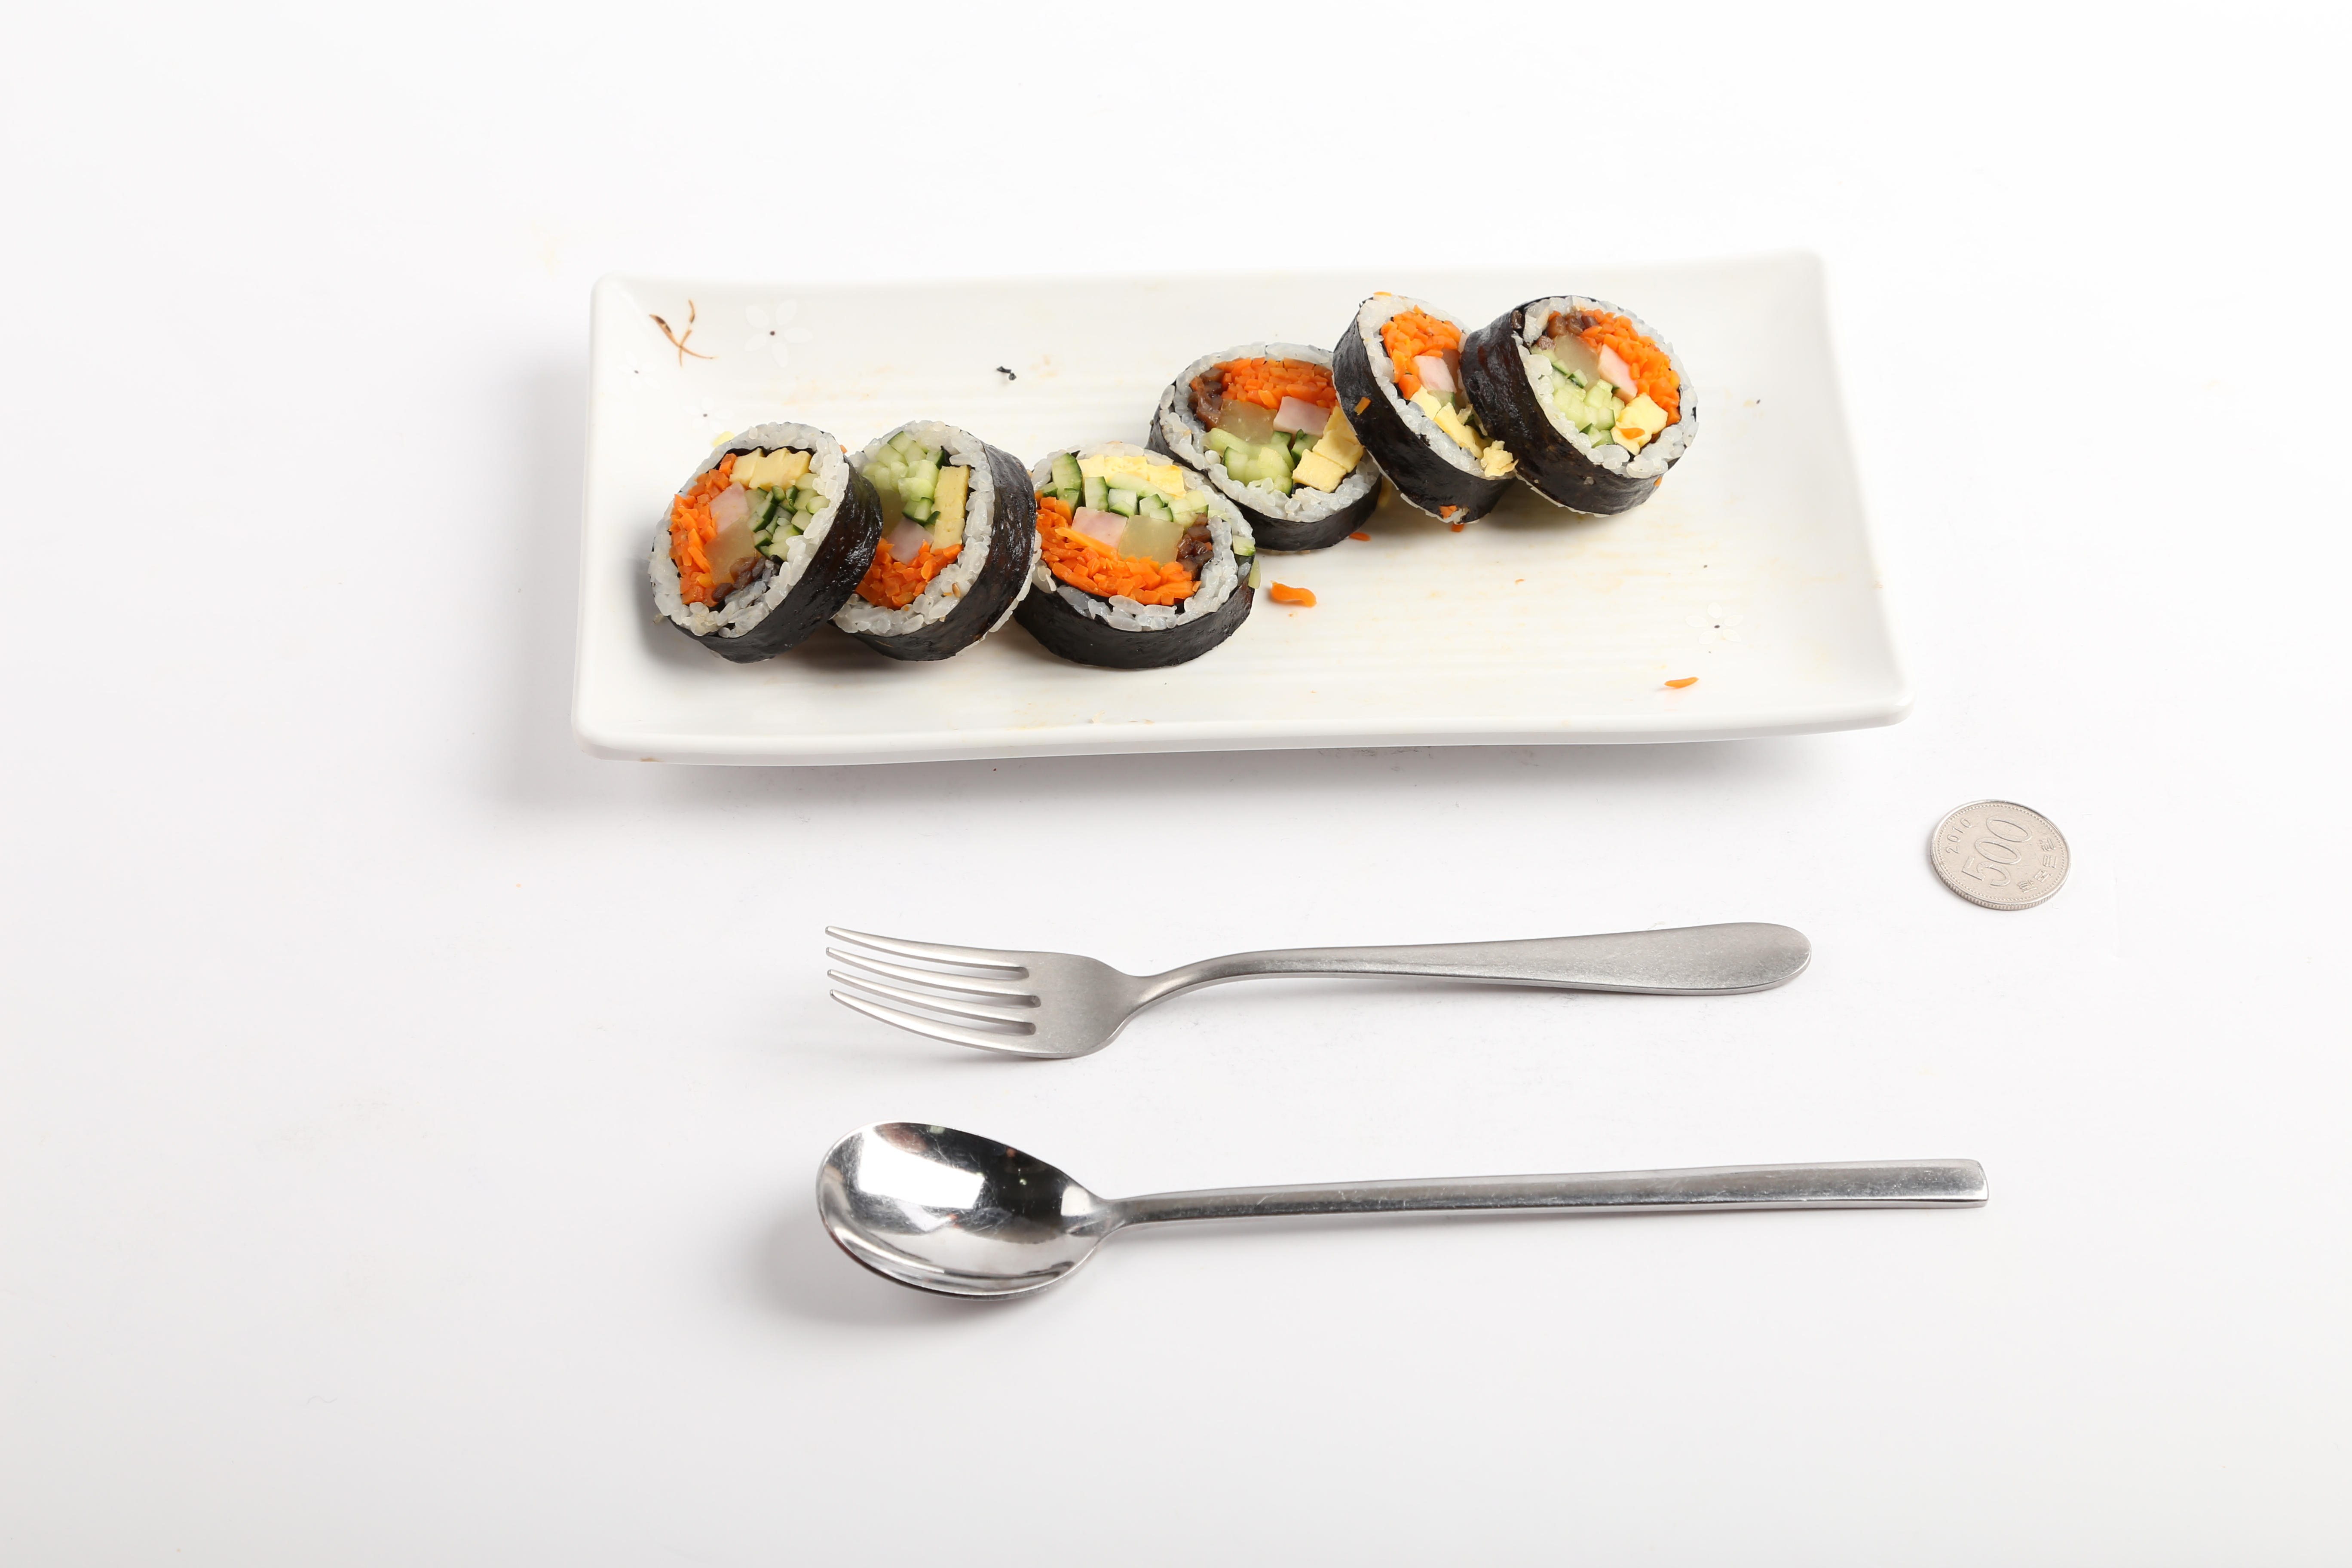dish: (563, 241, 1913, 787)
ref_coin: (1921, 787, 2074, 917)
ref_fork: (821, 898, 1276, 1062)
ref_spoon: (805, 1108, 1220, 1302)
김밥: (642, 282, 1701, 670)
